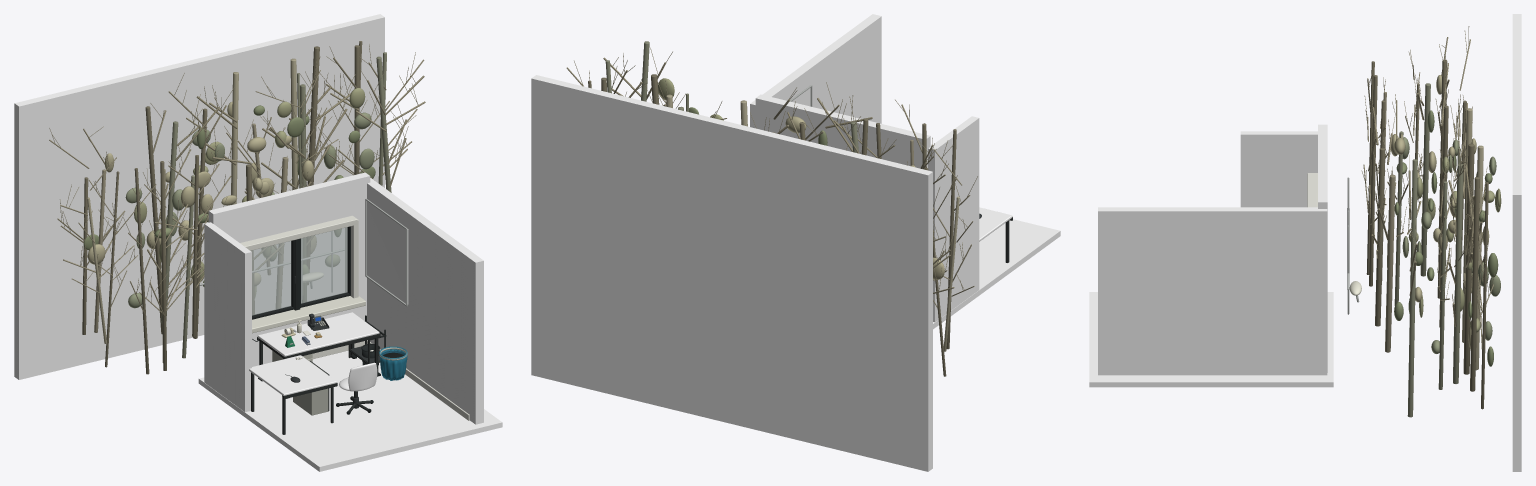
Rendered from kimik3.1.glb.
3 views of the same model, side by side, from view 1: azimuth 30°, elevation 25°; view 2: azimuth 150°, elevation 25°; view 3: azimuth 270°, elevation 25° (orthographic). The views are drawn at different scales.
Parts seen in each view (by area): view 1: distant outdoor ground and foliage mass, right side wall, continuous dark carpet floor, left foreground wall return, wall above window, transparent window pane.001, right wall board backing, transparent window pane, main white desk top, foreground left white desk, wide projecting window sill, window head reveal (+24 smaller); view 2: distant outdoor ground and foliage mass, left foreground wall return, right side wall, wall above window, continuous dark carpet floor, outdoor trunk 05, foreground left white desk, outdoor trunk 10; view 3: right side wall, left foreground wall return, distant outdoor ground and foliage mass, continuous dark carpet floor, outdoor trunk 13, outdoor trunk 06, outdoor trunk 03, outdoor trunk 23, outdoor trunk 16, outdoor trunk 07, outdoor trunk 02, outdoor trunk 08 (+9 smaller).
Part boxes in pixels (x1=…): distant outdoor ground and foliage mass: x1=14, y1=14, x2=384, y2=379; right side wall: x1=367, y1=178, x2=483, y2=424; continuous dark carpet floor: x1=198, y1=350, x2=502, y2=471; left foreground wall return: x1=204, y1=222, x2=251, y2=412; wall above window: x1=208, y1=172, x2=370, y2=242; transparent window pane.001: x1=301, y1=227, x2=347, y2=303; right wall board backing: x1=367, y1=201, x2=408, y2=304; transparent window pane: x1=251, y1=241, x2=291, y2=315; main white desk top: x1=257, y1=312, x2=379, y2=356; foreground left white desk: x1=249, y1=355, x2=336, y2=395; wide projecting window sill: x1=252, y1=296, x2=365, y2=333; window head reveal: x1=240, y1=215, x2=357, y2=250; distant outdoor ground and foliage mass: x1=531, y1=75, x2=932, y2=471; left foreground wall return: x1=928, y1=116, x2=979, y2=322; right side wall: x1=750, y1=14, x2=881, y2=128; wall above window: x1=755, y1=94, x2=930, y2=168; continuous dark carpet floor: x1=933, y1=219, x2=1060, y2=329; outdoor trunk 05: x1=946, y1=129, x2=956, y2=349; foreground left white desk: x1=979, y1=207, x2=1012, y2=241; outdoor trunk 10: x1=943, y1=196, x2=959, y2=351; right side wall: x1=1098, y1=207, x2=1327, y2=375; left foreground wall return: x1=1240, y1=131, x2=1317, y2=207; distant outdoor ground and foliage mass: x1=1512, y1=14, x2=1521, y2=471; continuous dark carpet floor: x1=1089, y1=292, x2=1333, y2=387; outdoor trunk 13: x1=1407, y1=159, x2=1417, y2=417; outdoor trunk 06: x1=1453, y1=164, x2=1463, y2=383; outdoor trunk 03: x1=1463, y1=143, x2=1474, y2=374; outdoor trunk 23: x1=1470, y1=177, x2=1479, y2=391; outdoor trunk 16: x1=1385, y1=174, x2=1395, y2=352; outdoor trunk 07: x1=1375, y1=147, x2=1385, y2=326; outdoor trunk 02: x1=1420, y1=83, x2=1430, y2=276; outdoor trunk 08: x1=1438, y1=181, x2=1447, y2=389.
Size of the model in its own units: 7.11 by 5.48 by 7.08.
